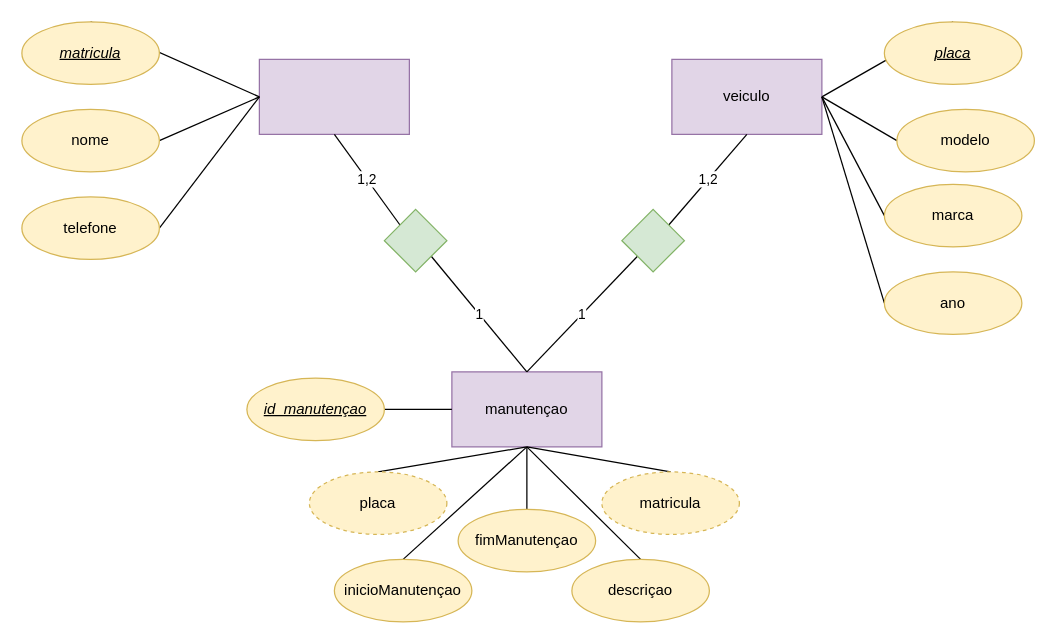
Image size: 1056x644. Some labels were removed from this diagram. Each missing label, with the box of its shape:
faz: (383, 208, 447, 272)
funcionario: (258, 58, 409, 134)
possui: (621, 208, 684, 272)
